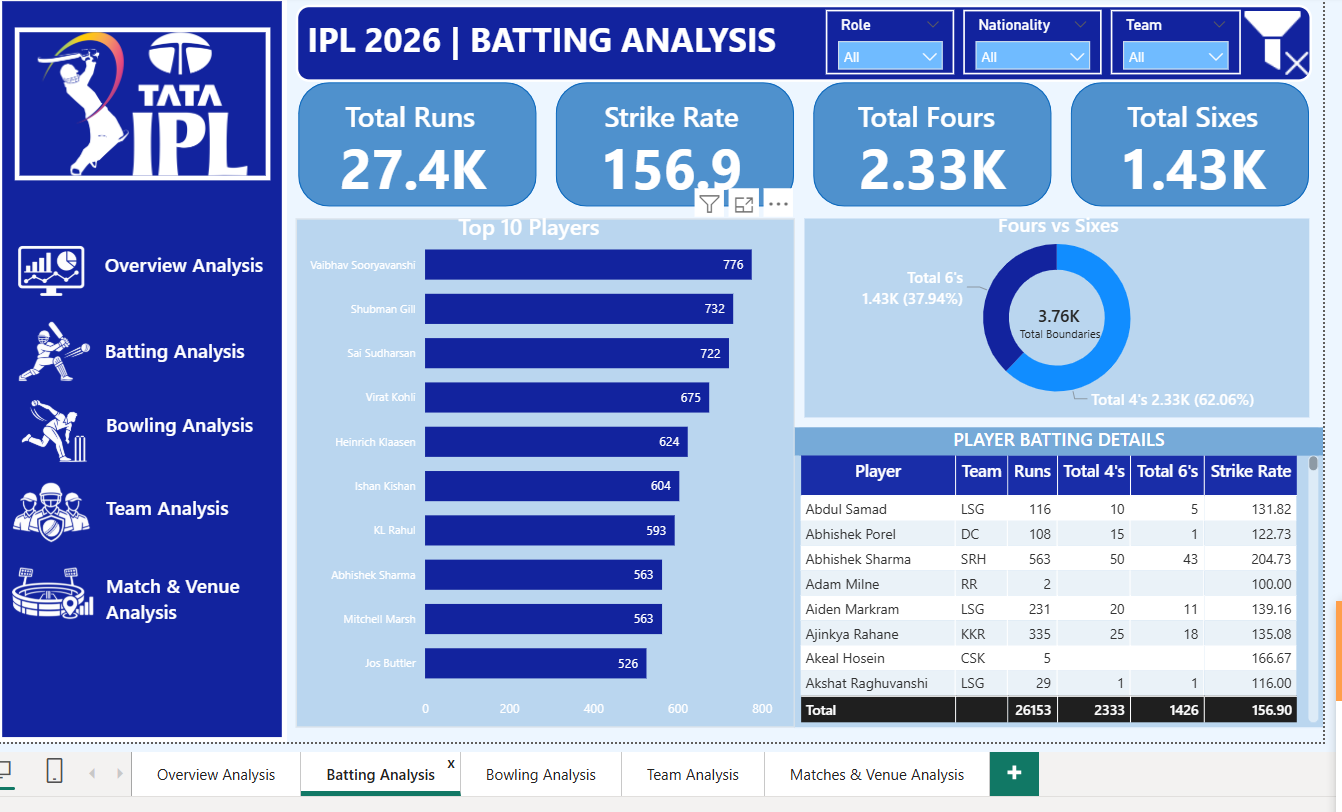

The page's visual inventory and layout, read from the dashboard file:
{"tool":"powerbi","page":{"name":"Batting Analysis","canvas":[1280,720],"ordinal":1},"visuals":[{"type":"textbox","box":[288.3,8.4,980.8,74.8],"z":0},{"type":"shape","box":[0,0,279.9,720.2],"z":1000},{"type":"shape","box":[290.3,82.8,230,120],"z":2000},{"type":"shape","box":[539.1,83.2,230,120],"z":3000},{"type":"shape","box":[788,83.2,230,120],"z":4000},{"type":"shape","box":[1036.8,83.2,230,120],"z":5000},{"type":"card","fields":{"Values":["Measures_Table.Total_Runs"]},"box":[317.3,133.9,168.9,60.3],"z":6000},{"type":"textbox","box":[299.2,92.9,199.1,49.5],"z":7000},{"type":"card","fields":{"Values":["Measures_Table.Strike_Rate"]},"box":[551.3,133.9,199.1,60.3],"z":8000},{"type":"textbox","box":[551.3,92.9,199.1,50.7],"z":9000},{"type":"card","fields":{"Values":["Measures_Table.Total 4's"]},"box":[803.5,133.9,199.1,60.3],"z":10000},{"type":"card","fields":{"Values":["Measures_Table.Total 6's"]},"box":[1054.4,133.9,199.1,60.3],"z":11000},{"type":"textbox","box":[1054.4,92.9,199.1,49.5],"z":12000},{"type":"textbox","box":[791.4,92.9,211.1,50.7],"z":13000},{"type":"barChart","fields":{"Category":["squads.player"],"Y":["Measures_Table.Batting Runs"]},"box":[288.3,214.7,481.4,491],"z":14000},{"type":"tableEx","title":"PLAYER BATTING DETAILS","fields":{"Values":["deliveries.Standarized_Player","deliveries.batting_team","Measures_Table.Batting Runs","Measures_Table.Total 4's","Measures_Table.Total 6's","Measures_Table.Strike_Rate"]},"box":[769.7,416.2,510.3,289.5],"z":15000},{"type":"donutChart","fields":{"Y":["Measures_Table.Total 4's","Measures_Table.Total 6's"]},"box":[779.4,214.7,487.4,191.8],"z":16000},{"type":"card","fields":{"Values":["Measures_Table.Total Boundaries"]},"box":[991.7,296.8,66.4,27.7],"z":17000},{"type":"textbox","box":[317.3,202.7,392.1,38.6],"z":18000},{"type":"textbox","box":[867.4,202.7,313.7,47.1],"z":19000},{"type":"textbox","box":[970,311.3,112.2,33.8],"z":20000},{"type":"image","box":[16.9,30.2,247.3,148.4],"z":21000},{"type":"slicer","fields":{"Values":["dim_team.team_code"]},"box":[1074.7,13.3,125.5,62.7],"z":22000},{"type":"slicer","fields":{"Values":["squads.role"]},"box":[799.6,13.3,124.3,62.7],"z":23000},{"type":"slicer","fields":{"Values":["squads.nationality"]},"box":[932.3,13.3,133.9,62.7],"z":24000},{"type":"image","box":[1204,14.5,61.5,61.5],"z":25000},{"type":"image","box":[6,228.5,92.9,72.4],"z":26000},{"type":"image","box":[7.2,306.3,92.9,72.4],"z":27000},{"type":"image","box":[8.4,384.1,92.9,72.4],"z":28000},{"type":"image","box":[6,461.9,92.9,72.4],"z":29000},{"type":"image","box":[6,539.5,92.9,72.4],"z":30000},{"type":"textbox","box":[98.9,241.3,189.4,42.2],"z":31000},{"type":"textbox","box":[98.9,324.5,181,44.6],"z":32000},{"type":"textbox","box":[100.1,395.7,179.8,45.8],"z":33000},{"type":"textbox","box":[100.1,476.5,179.8,48.3],"z":34000},{"type":"textbox","box":[100.1,551.3,190.6,60.3],"z":35000}]}

Visuals, with their boxes on the page's 1280x720 design canvas (x1, y1, x2, y2). These are canvas units, not pixel positions in the 1342x812 screenshot, which may show the page scaled, cropped or inside an application window:
textbox: bbox=[288, 8, 1269, 83]
shape: bbox=[0, 0, 280, 720]
shape: bbox=[290, 83, 520, 203]
shape: bbox=[539, 83, 769, 203]
shape: bbox=[788, 83, 1018, 203]
shape: bbox=[1037, 83, 1267, 203]
card - Measures_Table.Total_Runs: bbox=[317, 134, 486, 194]
textbox: bbox=[299, 93, 498, 142]
card - Measures_Table.Strike_Rate: bbox=[551, 134, 750, 194]
textbox: bbox=[551, 93, 750, 144]
card - Measures_Table.Total 4's: bbox=[804, 134, 1003, 194]
card - Measures_Table.Total 6's: bbox=[1054, 134, 1254, 194]
textbox: bbox=[1054, 93, 1254, 142]
textbox: bbox=[791, 93, 1002, 144]
barChart - squads.player x Measures_Table.Batting Runs: bbox=[288, 215, 770, 706]
"PLAYER BATTING DETAILS" tableEx: bbox=[770, 416, 1280, 706]
donutChart - Measures_Table.Total 4's x Measures_Table.Total 6's: bbox=[779, 215, 1267, 406]
card - Measures_Table.Total Boundaries: bbox=[992, 297, 1058, 324]
textbox: bbox=[317, 203, 709, 241]
textbox: bbox=[867, 203, 1181, 250]
textbox: bbox=[970, 311, 1082, 345]
image: bbox=[17, 30, 264, 179]
slicer - dim_team.team_code: bbox=[1075, 13, 1200, 76]
slicer - squads.role: bbox=[800, 13, 924, 76]
slicer - squads.nationality: bbox=[932, 13, 1066, 76]
image: bbox=[1204, 14, 1266, 76]
image: bbox=[6, 228, 99, 301]
image: bbox=[7, 306, 100, 379]
image: bbox=[8, 384, 101, 456]
image: bbox=[6, 462, 99, 534]
image: bbox=[6, 540, 99, 612]
textbox: bbox=[99, 241, 288, 284]
textbox: bbox=[99, 324, 280, 369]
textbox: bbox=[100, 396, 280, 442]
textbox: bbox=[100, 476, 280, 525]
textbox: bbox=[100, 551, 291, 612]
